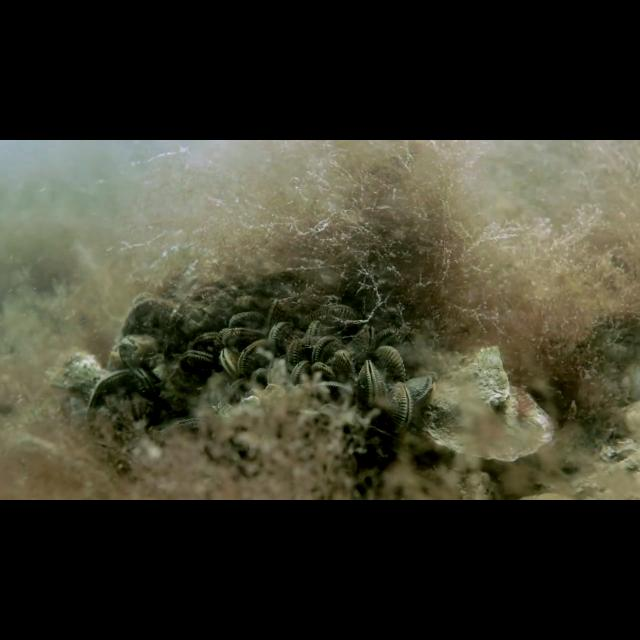Oyster-Closed: (84, 365, 134, 423), (298, 301, 369, 327), (354, 353, 387, 408), (386, 379, 416, 437), (403, 366, 442, 403), (374, 345, 409, 386), (237, 339, 269, 379), (267, 317, 299, 357), (306, 330, 344, 363), (176, 344, 216, 375), (347, 322, 381, 354), (223, 309, 269, 332), (129, 366, 159, 398), (219, 325, 265, 345), (332, 346, 358, 376), (218, 345, 239, 380), (287, 335, 308, 369), (284, 359, 313, 383), (375, 325, 401, 351), (189, 328, 219, 348), (307, 360, 335, 378), (304, 321, 321, 343)
